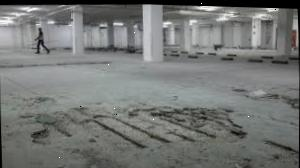spalling: (31, 104, 246, 147)
